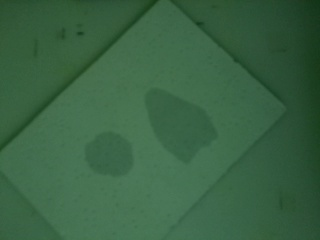Water_detected: (155, 102, 214, 159), (97, 144, 138, 171)
